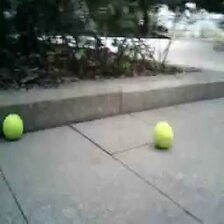tennis: (152, 122, 173, 149), (2, 113, 23, 139)
